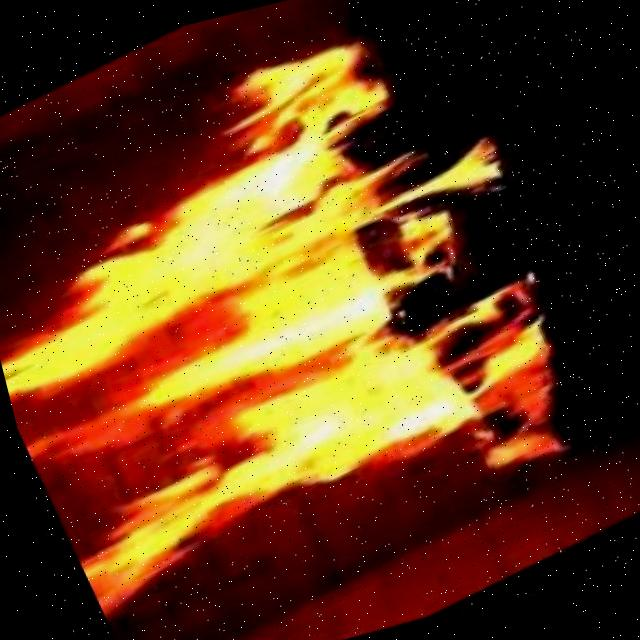fire: (0, 50, 558, 606)
